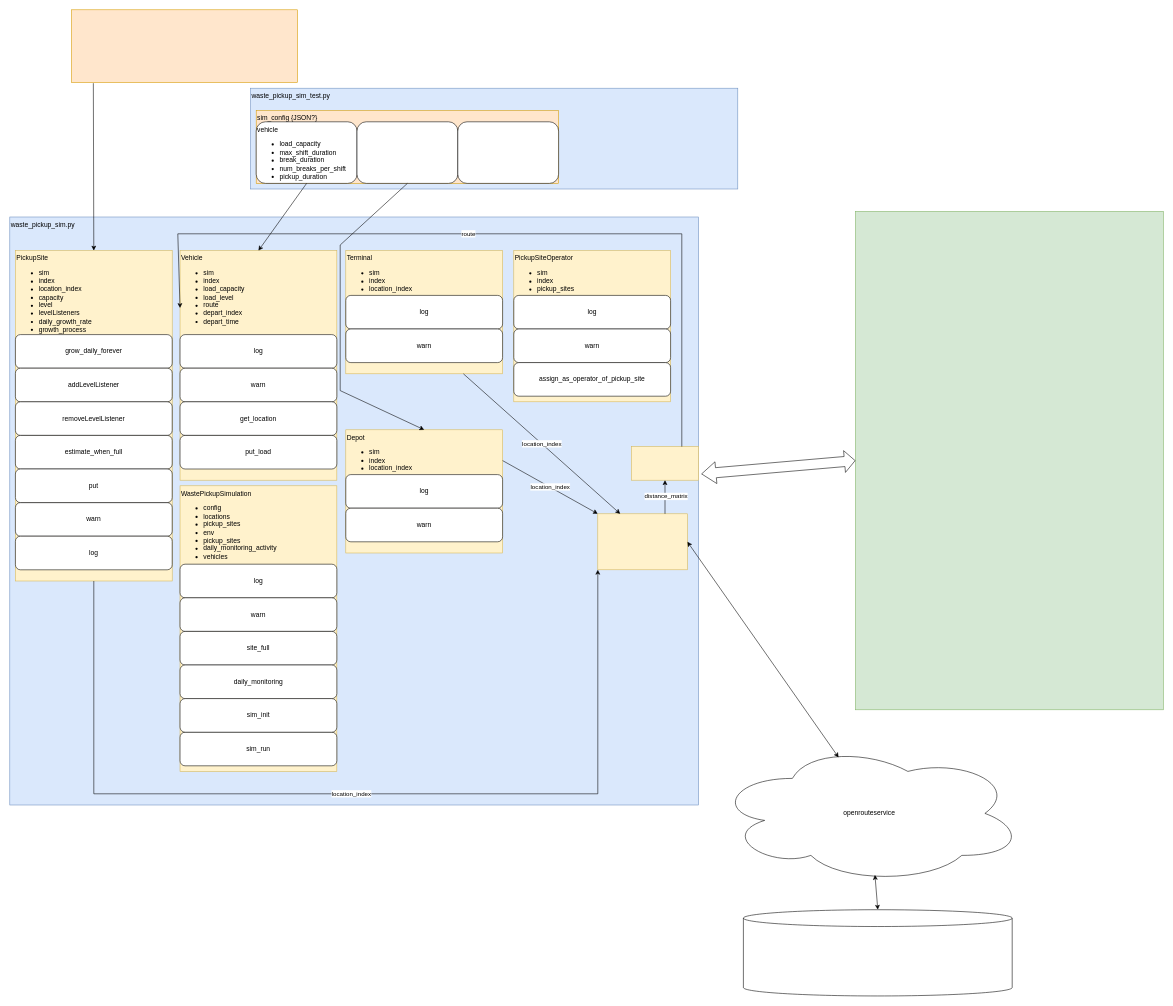
Some shapes in this 1173 by 1006 pixel diagram are drawn without their labels. The centre of each missing label's shape, as x and y in pixels:
"c-optimizer" belongs at point 1009,460.
"cached_distance" belongs at point 877,952.
"depots [{num_vehicles}, {}, .....]" belongs at point 407,152.
"get_distance_matrix" belongs at point 642,541.
"interface" belongs at point 665,463.
"locations {JSON}" belongs at point 184,46.
"sim_name sim_runtime_days" belongs at point 508,152.
